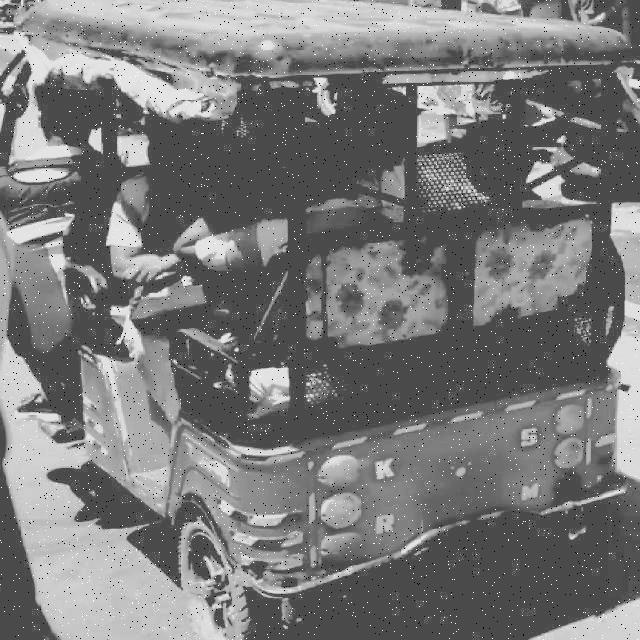Toto: (8, 0, 631, 606)
